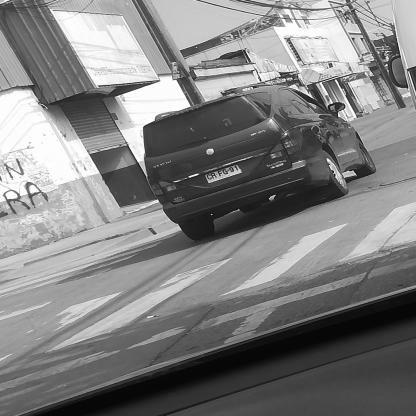Patente: (202, 162, 245, 186)
